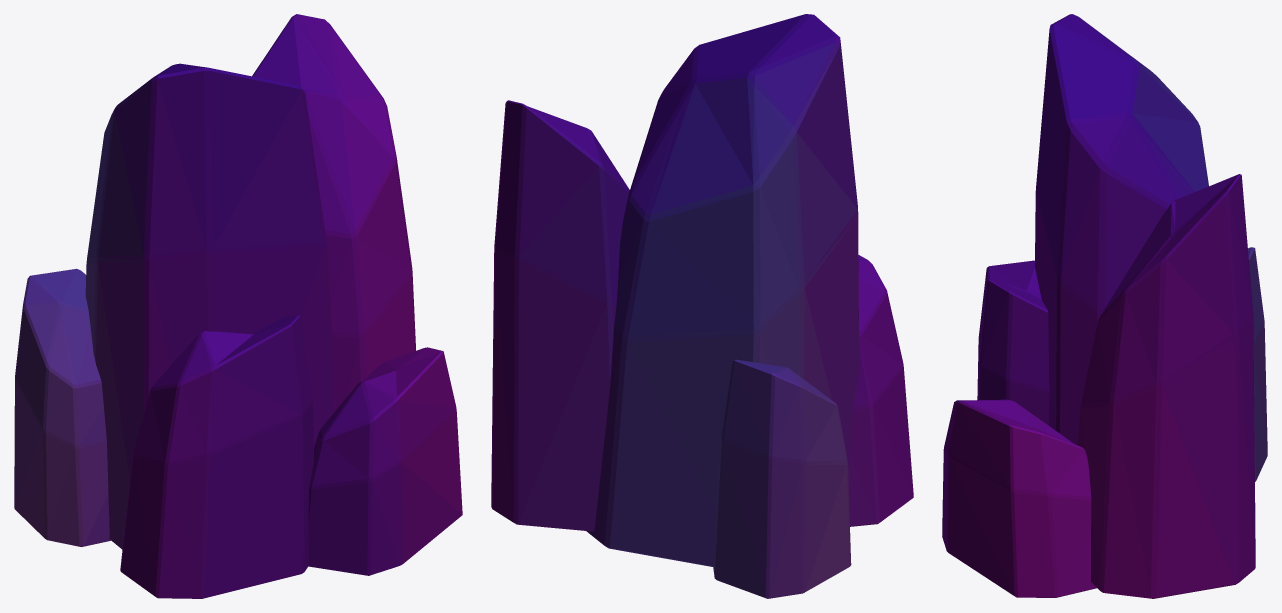
The model's file is SM_CinderCanyon_Rock_E_LOD1.fbx.
The picture shows the model from 3 angles, left to right: view 1: azimuth 30°, elevation 25°; view 2: azimuth 150°, elevation 25°; view 3: azimuth 270°, elevation 25°; orthographic projection. The views are drawn at different scales.
Parts seen in each view (by area): view 1: SM_CinderCanyon_Rock_E_LOD1; view 2: SM_CinderCanyon_Rock_E_LOD1; view 3: SM_CinderCanyon_Rock_E_LOD1.
Part boxes in pixels (x1,y1,x2,y2): SM_CinderCanyon_Rock_E_LOD1: (14, 14, 462, 598); SM_CinderCanyon_Rock_E_LOD1: (491, 14, 913, 598); SM_CinderCanyon_Rock_E_LOD1: (942, 14, 1267, 598).
Size of the model in its own units: 100 by 84 by 132.
